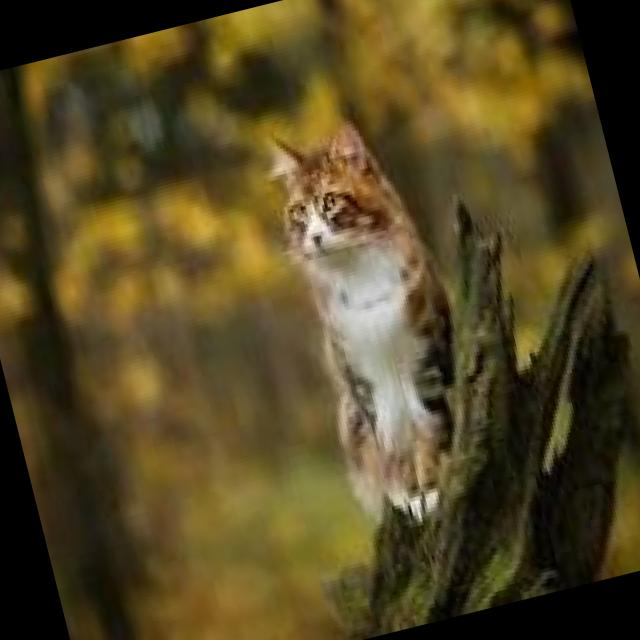Gato: (228, 99, 492, 544)
